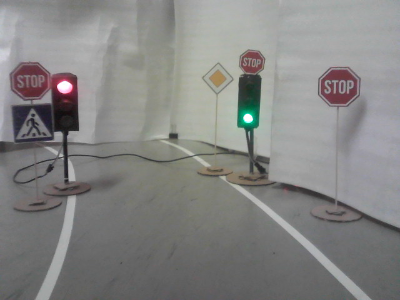crosswalk: (14, 105, 53, 141)
priority_road: (203, 63, 233, 94)
stop: (318, 67, 360, 106), (12, 64, 49, 99), (240, 50, 264, 74)
trafficlight_green: (237, 78, 259, 128)
trafficlight_red: (53, 76, 76, 131)
